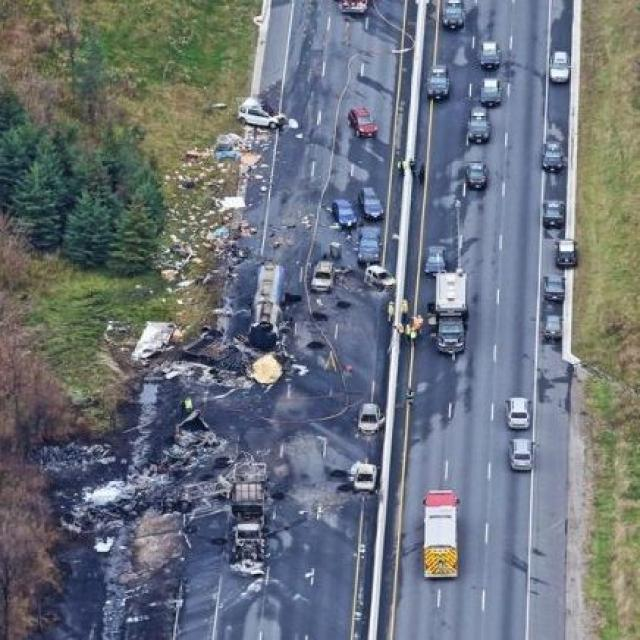traffic_incident: (47, 417, 280, 600), (130, 242, 304, 410), (223, 86, 289, 142), (326, 452, 386, 511), (352, 260, 401, 312), (310, 252, 348, 310)
